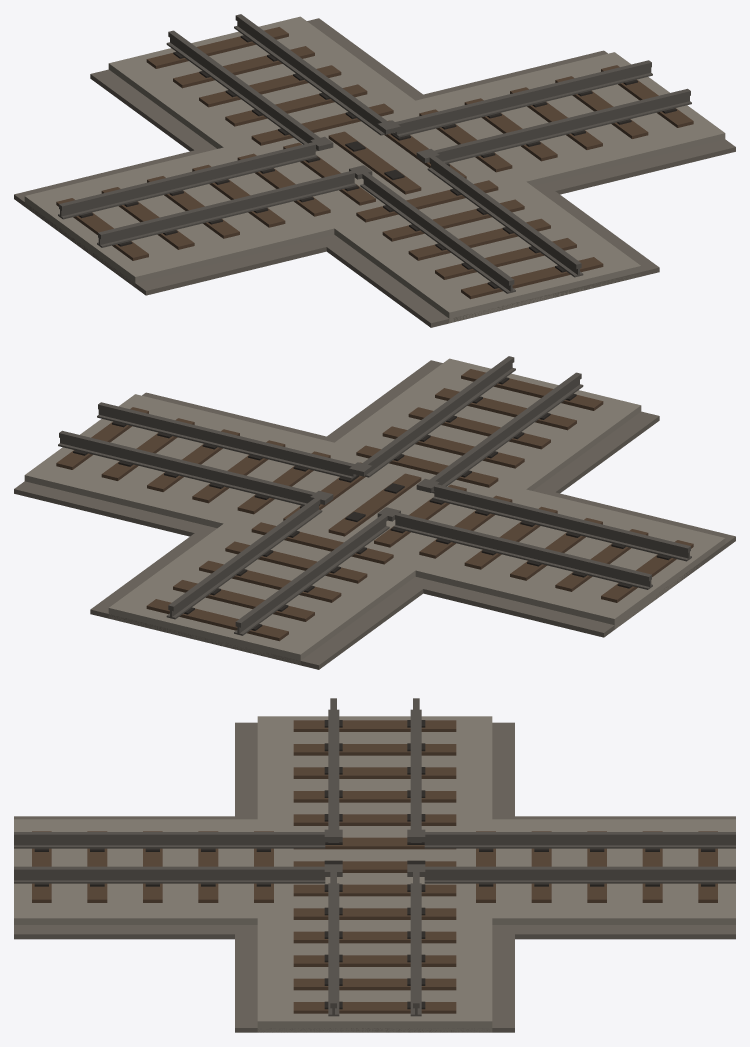
File: rieles-riel-cruce.glb
The picture shows the model from 3 angles, top to bottom: view 1: azimuth 30°, elevation 25°; view 2: azimuth 150°, elevation 25°; view 3: azimuth 270°, elevation 25°; orthographic projection. The views are drawn at different scales.
Visible parts, largest first — view 1: riel_cruce_Balasto, riel_cruce_Riel, riel_cruce_Durmiente, riel_cruce_BalastoHombro, riel_cruce_PlacaApoyo; view 2: riel_cruce_Balasto, riel_cruce_Riel, riel_cruce_Durmiente, riel_cruce_BalastoHombro, riel_cruce_PlacaApoyo; view 3: riel_cruce_Balasto, riel_cruce_Riel, riel_cruce_Durmiente, riel_cruce_BalastoHombro, riel_cruce_PlacaApoyo.
Boxes of the visible parts, <box> form: riel_cruce_Balasto: <box>24,16,725,323</box>; riel_cruce_Riel: <box>58,14,691,293</box>; riel_cruce_Durmiente: <box>56,27,693,299</box>; riel_cruce_BalastoHombro: <box>14,18,735,327</box>; riel_cruce_PlacaApoyo: <box>78,35,676,288</box>; riel_cruce_Balasto: <box>24,358,725,665</box>; riel_cruce_Riel: <box>58,356,691,635</box>; riel_cruce_Durmiente: <box>56,369,693,641</box>; riel_cruce_BalastoHombro: <box>14,360,735,669</box>; riel_cruce_PlacaApoyo: <box>73,377,671,630</box>; riel_cruce_Balasto: <box>14,716,735,1032</box>; riel_cruce_Riel: <box>14,698,735,1016</box>; riel_cruce_Durmiente: <box>32,720,717,1013</box>; riel_cruce_BalastoHombro: <box>14,722,735,1032</box>; riel_cruce_PlacaApoyo: <box>34,720,715,1009</box>.
Size of the model in its own units: 8 by 0.36 by 8.
